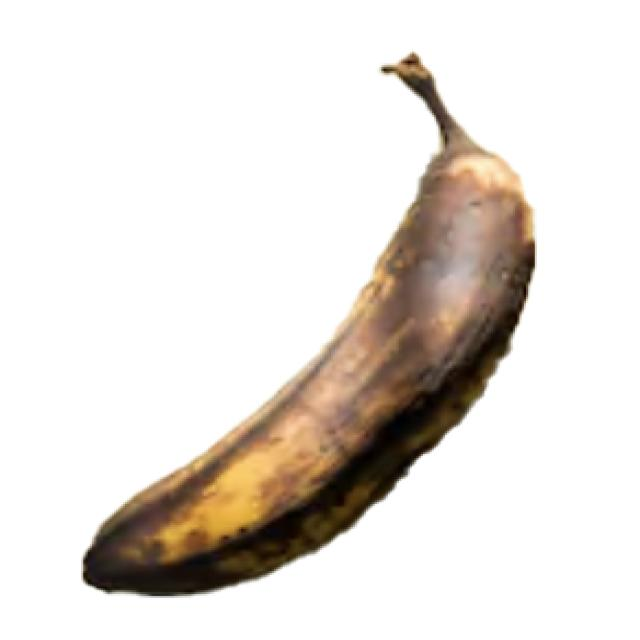rotten-banana: (79, 50, 537, 596)
